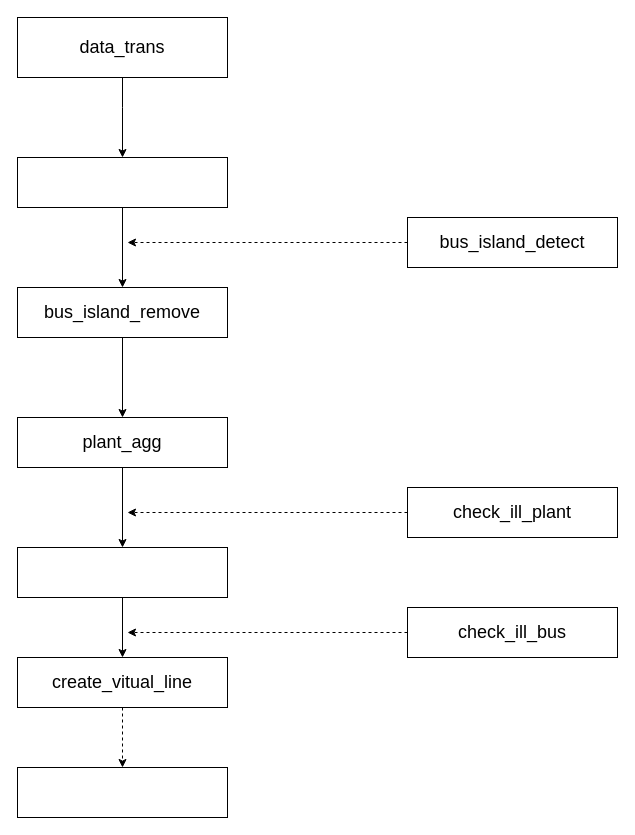
Some shapes in this 635 by 835 pixel diagram are drawn without their labels. Here are the shapes that lost their labels. From the top down, the centre of each, then its label:
the point at 122,182: topology_validation
the point at 122,572: create_vitual_plant
the point at 122,792: virtual_line_merge
